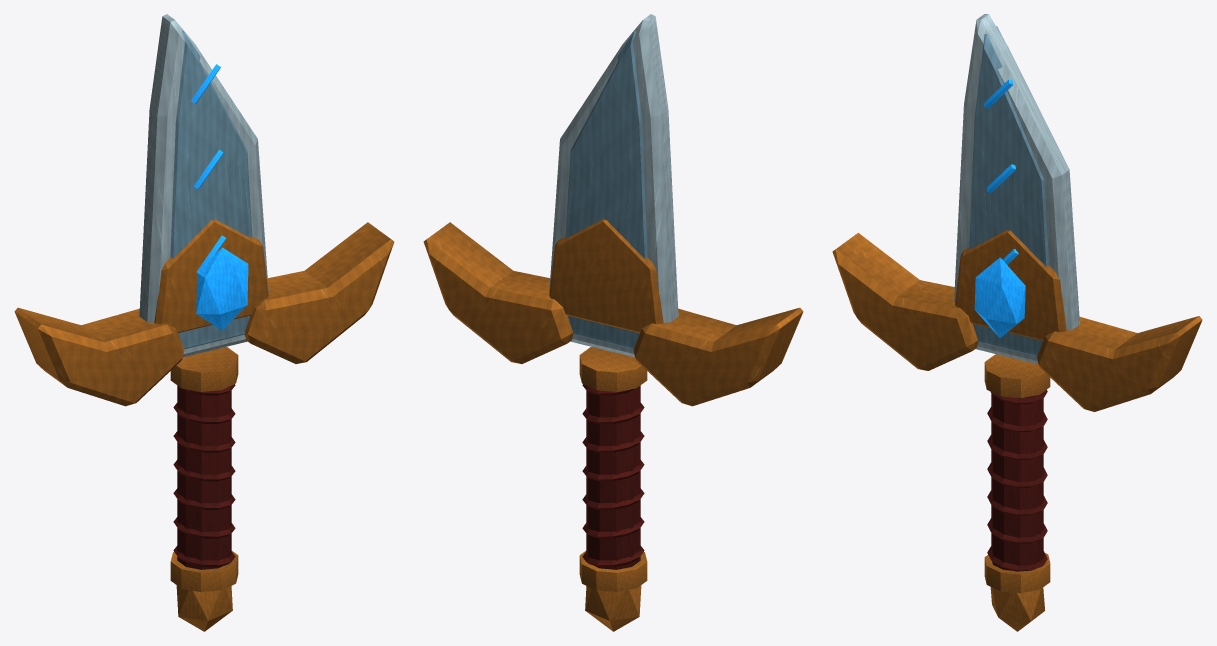
File: dagger-t2.glb
3 renders of one model, left to right at view 1: azimuth 30°, elevation 25°; view 2: azimuth 150°, elevation 25°; view 3: azimuth 330°, elevation 25°, orthographic. The views are drawn at different scales.
Visible parts, largest first — view 1: Sculpted blade core, Forged guard.001, Cutting edge, Forged guard, Leather grip, Blade collar, Set jewel, Grip ferrule.001, Faceted pommel, Grip ferrule; view 2: Sculpted blade core, Forged guard.001, Cutting edge, Forged guard, Blade collar, Leather grip, Grip ferrule.001, Faceted pommel, Grip ferrule; view 3: Sculpted blade core, Cutting edge, Forged guard, Forged guard.001, Leather grip, Blade collar, Set jewel, Grip ferrule.001, Faceted pommel, Grip ferrule.
Part boxes in pixels (x1,y1,x2,y2): Sculpted blade core: (170,31,252,348); Forged guard.001: (244,222,394,363); Cutting edge: (139,14,268,357); Forged guard: (14,307,184,406); Leather grip: (177,385,231,569); Blade collar: (154,219,268,332); Set jewel: (196,247,248,330); Grip ferrule.001: (170,347,238,391); Faceted pommel: (176,585,232,631); Grip ferrule: (170,551,238,592); Sculpted blade core: (565,31,647,348); Forged guard.001: (423,222,573,363); Cutting edge: (549,14,678,357); Forged guard: (633,307,803,406); Blade collar: (549,219,663,332); Leather grip: (586,385,640,569); Grip ferrule.001: (579,347,647,391); Faceted pommel: (585,585,641,631); Grip ferrule: (579,551,647,592); Sculpted blade core: (969,26,1048,356); Cutting edge: (954,14,1079,364); Forged guard: (832,232,978,370); Forged guard.001: (1037,316,1202,411); Leather grip: (991,393,1043,570); Blade collar: (955,230,1079,340); Set jewel: (974,257,1025,338); Grip ferrule.001: (984,354,1050,397); Faceted pommel: (990,587,1044,631); Grip ferrule: (984,553,1050,593).
Bounding box in the file's own units: 0.2396 × 0.4 × 0.0484.
1 material, 1 textured.
